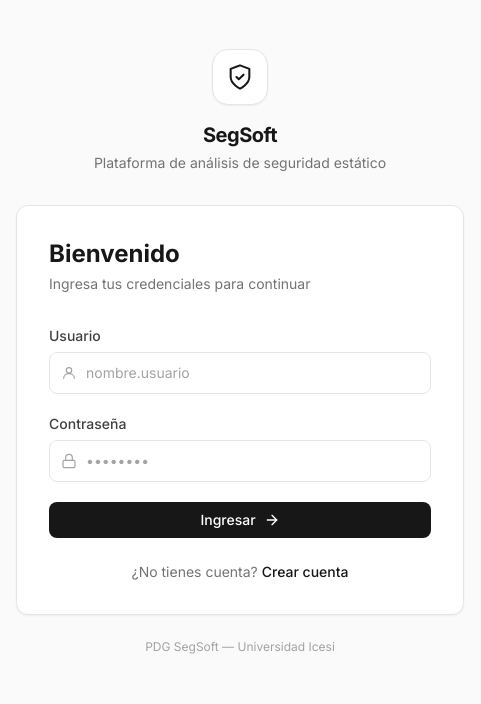
Scenario: LoginForm › shows server error message when login fails
In the field labelled "Usuario": (240, 373) [49,352,431,394], type "alice"
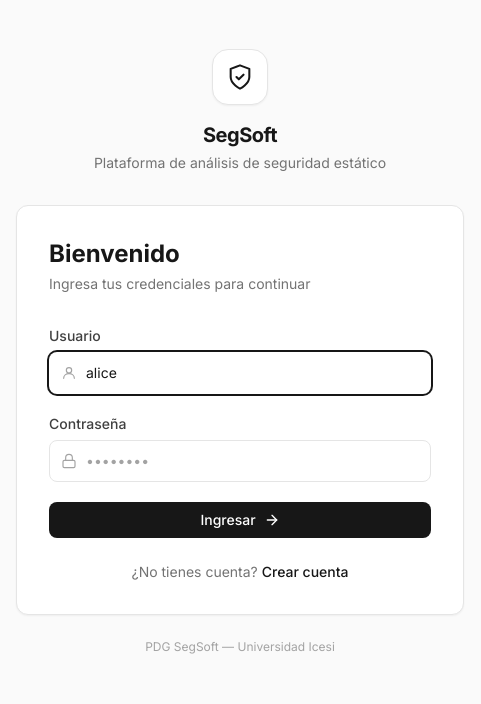
In the password field labelled "Contraseña": (240, 461) [49,440,431,482], type "wrong"
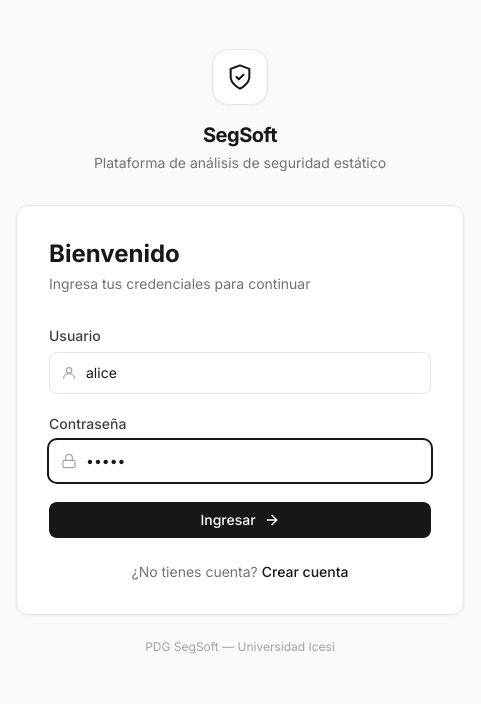
Click the button "Ingresar": (240, 520) [49,502,431,538]
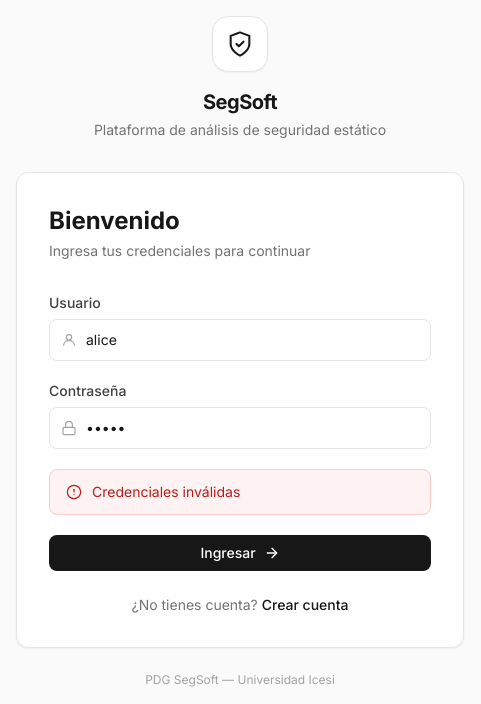
Now the message reads "Credenciales inválidas", box [92,483,240,500]
